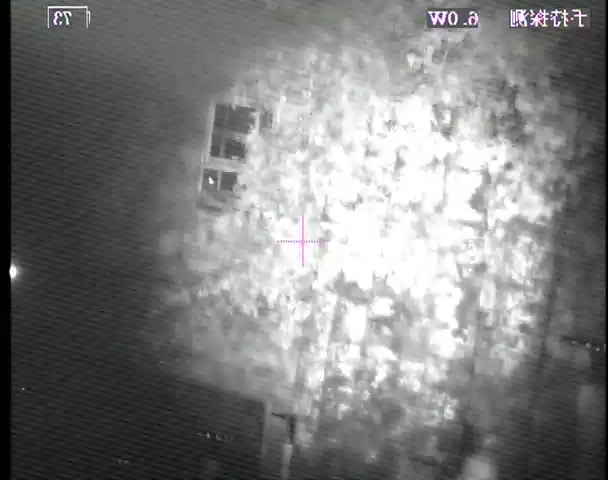my: (206, 176, 216, 186)
